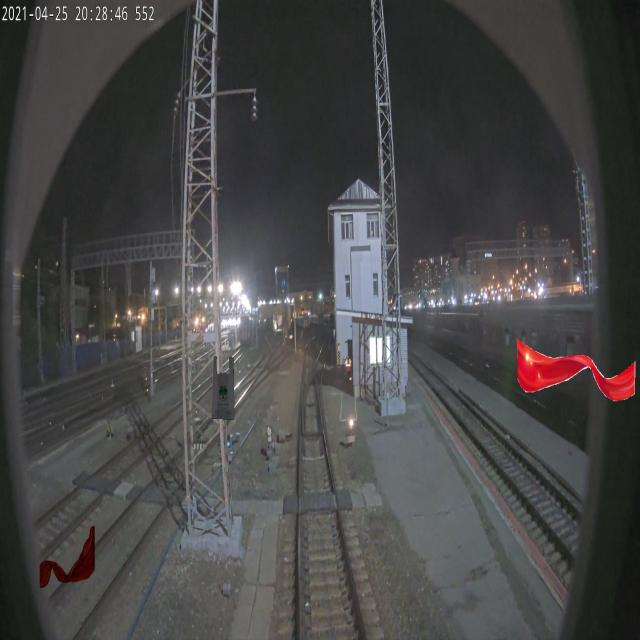floating object: (515, 338, 637, 402), (39, 525, 95, 589)
plastic bag: (212, 356, 234, 420)
